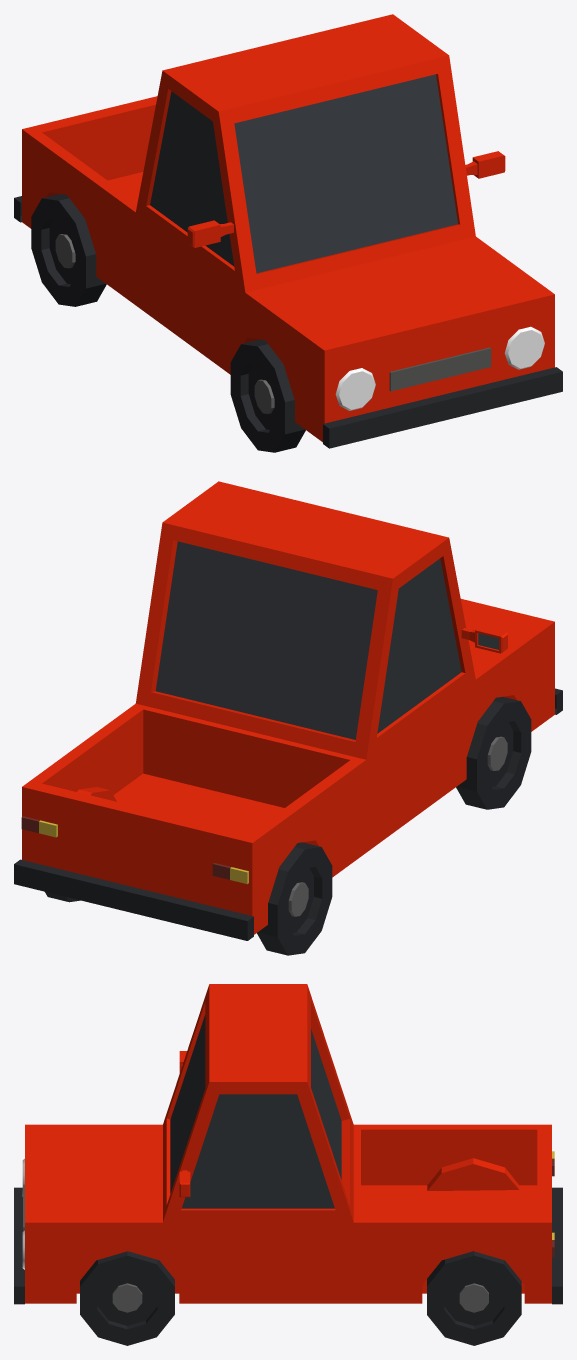
The model's file is Car_1.fbx.
The picture shows the model from 3 angles, top to bottom: view 1: azimuth 30°, elevation 25°; view 2: azimuth 150°, elevation 25°; view 3: azimuth 270°, elevation 25°; orthographic projection. The views are drawn at different scales.
Visible parts, largest first — view 1: Car_1; view 2: Car_1; view 3: Car_1.
Boxes of the visible parts, left/top/right/bottom form: Car_1: left=14, top=14, right=562, bottom=452; Car_1: left=14, top=481, right=562, bottom=955; Car_1: left=14, top=984, right=562, bottom=1345.
Size of the model in its own units: 261 by 241 by 456.
